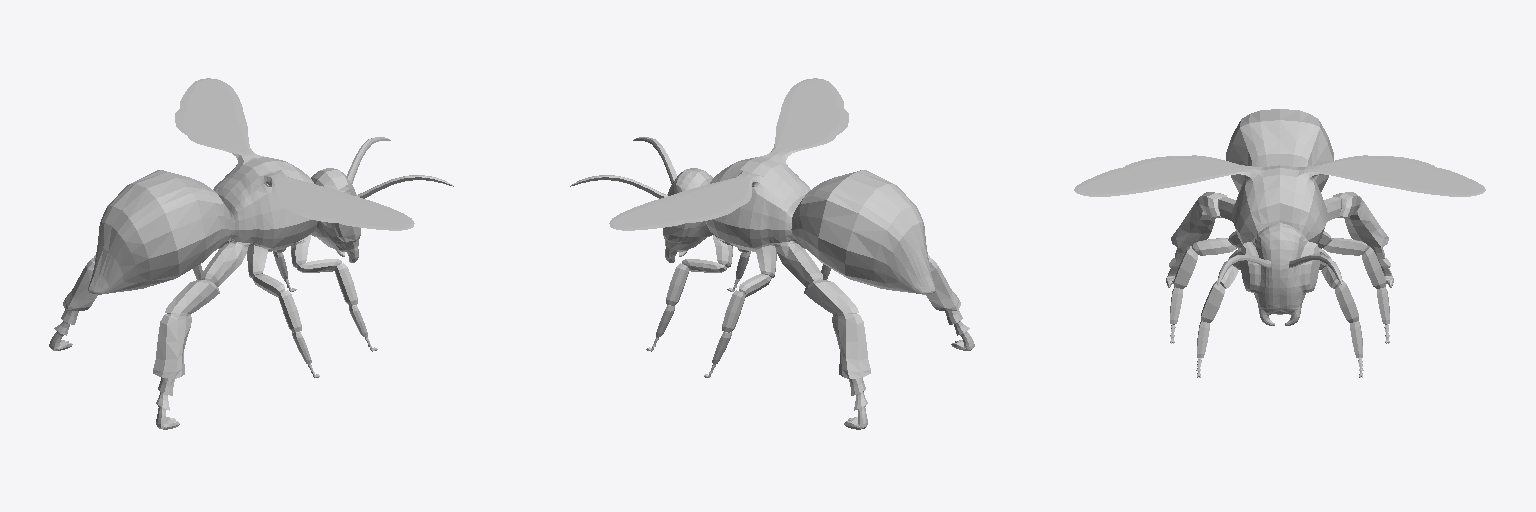
File: African bee.obj
The picture shows the model from 3 angles: view 1: azimuth 30°, elevation 25°; view 2: azimuth 150°, elevation 25°; view 3: azimuth 270°, elevation 25°; orthographic projection.
Visible parts, largest first — view 1: African_bee_Cube.004; view 2: African_bee_Cube.004; view 3: African_bee_Cube.004.
Part boxes in pixels (bbox=[...]): African_bee_Cube.004: bbox=[49, 78, 453, 429]; African_bee_Cube.004: bbox=[570, 78, 974, 429]; African_bee_Cube.004: bbox=[1074, 109, 1485, 377].
Bounding box in the file's own units: 1.74 × 0.9699 × 1.86.